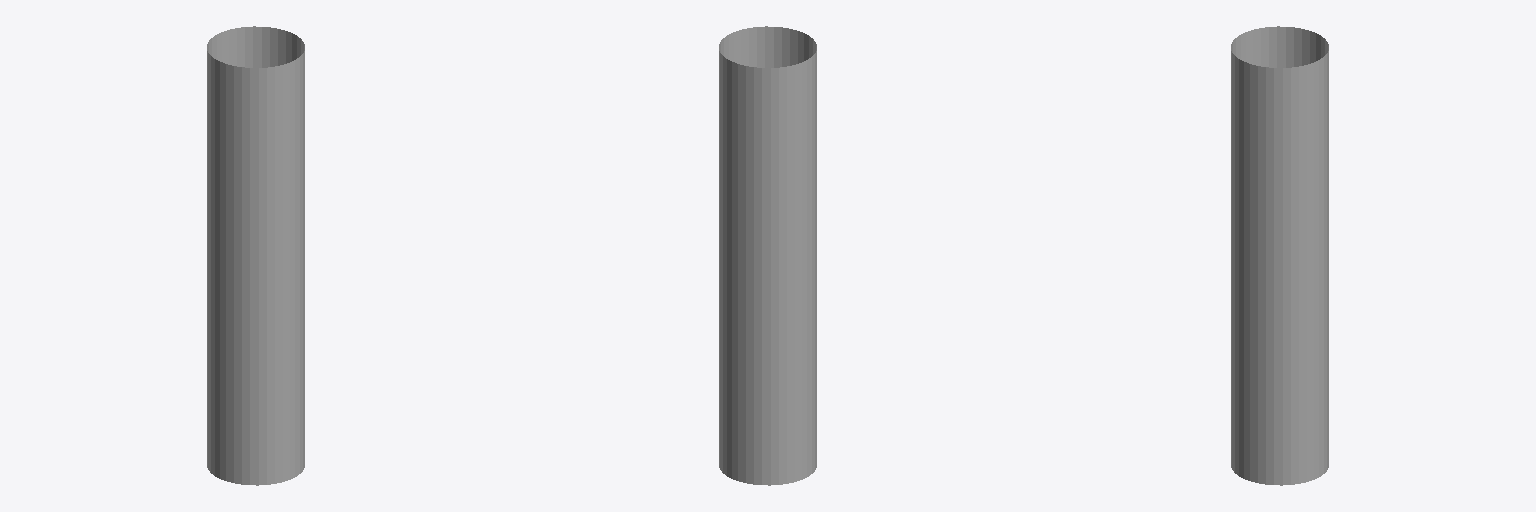
File: original-47.obj
The picture shows the model from 3 angles: view 1: azimuth 30°, elevation 25°; view 2: azimuth 150°, elevation 25°; view 3: azimuth 270°, elevation 25°; orthographic projection.
Parts seen in each view (by area): view 1: #ID158; view 2: #ID158; view 3: #ID158.
Boxes of the visible parts, box(x1,y1,x2,y2) form: #ID158: box(207, 26, 304, 485); #ID158: box(719, 26, 816, 485); #ID158: box(1231, 26, 1328, 485).
Bounding box in the file's own units: 0.0464 × 0.2169 × 0.0464.